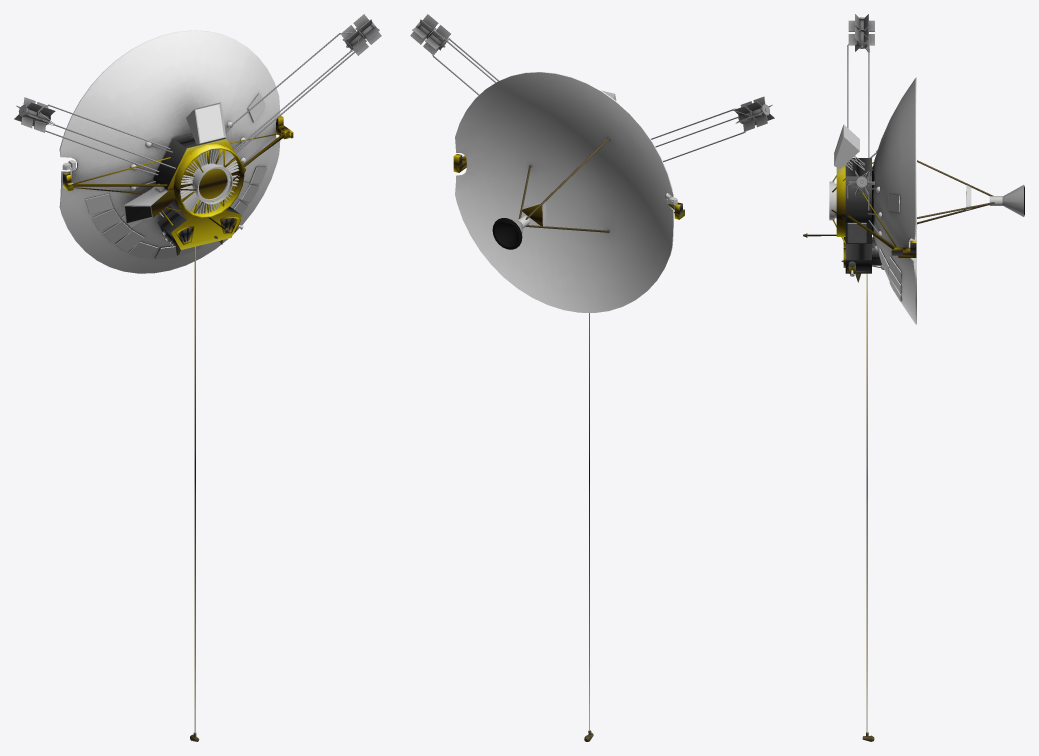
Rendered from pioneer_10.glb.
The picture shows the model from 3 angles, left to right: view 1: azimuth 30°, elevation 25°; view 2: azimuth 150°, elevation 25°; view 3: azimuth 270°, elevation 25°; orthographic projection. The views are drawn at different scales.
Visible parts, largest first — view 1: AO_dish, Foil_gold, Norm_silver, Tex_02, Foil_silver, AO_rtg, Foil_trans; view 2: AO_dish, AO_rtg, Tex_02, Foil_gold, Tex_black; view 3: AO_dish, Foil_silver, Foil_gold, Norm_silver, Tex_02, AO_rtg, Tex_01.
Part boxes in pixels (x1,y1,x2,y2): AO_dish: (59, 30, 280, 273); Foil_gold: (63, 116, 293, 733); Norm_silver: (62, 93, 267, 259); Tex_02: (34, 32, 360, 741); Foil_silver: (63, 118, 278, 249); AO_rtg: (14, 14, 381, 132); Foil_trans: (196, 104, 223, 141); AO_dish: (455, 72, 673, 312); AO_rtg: (410, 14, 774, 131); Tex_02: (428, 30, 755, 741); Foil_gold: (453, 154, 684, 730); Tex_black: (492, 218, 522, 249); AO_dish: (872, 77, 1023, 324); Foil_silver: (845, 158, 916, 274); Foil_gold: (807, 162, 966, 732); Norm_silver: (829, 124, 1002, 301); Tex_02: (803, 30, 994, 741); AO_rtg: (848, 14, 874, 195); Tex_01: (847, 223, 866, 242).
Bounding box in the file's own units: 4.52 × 8.25 × 2.54.
10 materials, 8 textured.
